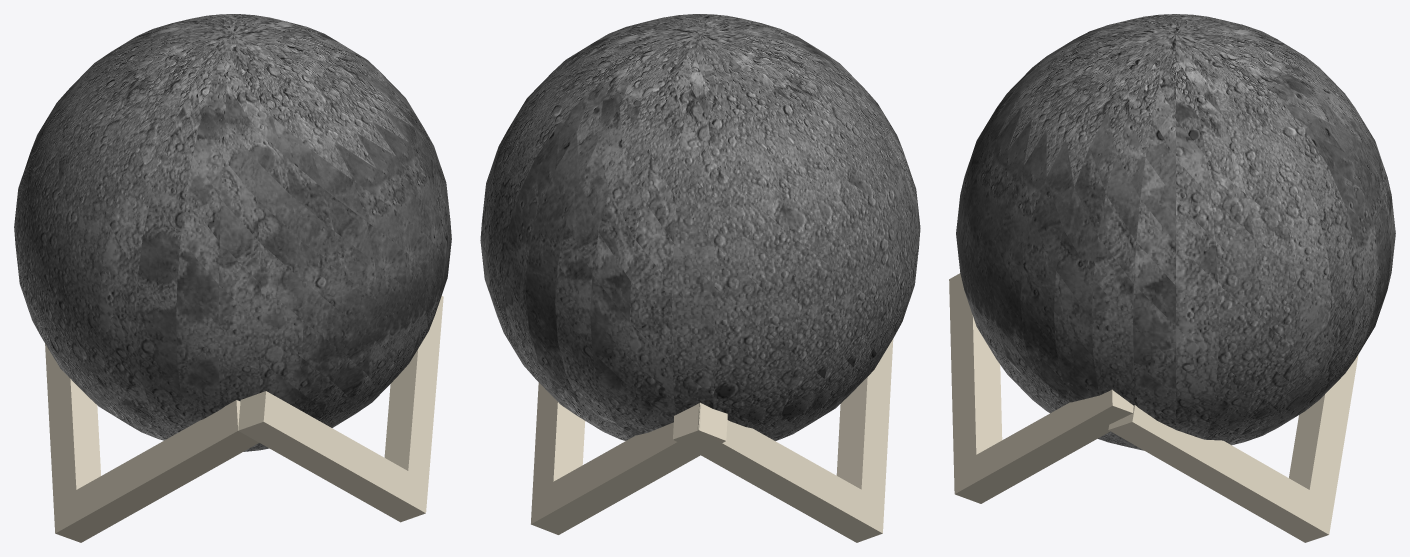
The model's file is lampara-de-luna-de-apoyar.glb.
The picture shows the model from 3 angles, left to right: view 1: azimuth 30°, elevation 25°; view 2: azimuth 150°, elevation 25°; view 3: azimuth 270°, elevation 25°; orthographic projection.
Visible parts, largest first — view 1: Root Node; view 2: Root Node; view 3: Root Node.
Part boxes in pixels (x1,y1,x2,y2): Root Node: (14,14,451,542); Root Node: (480,14,920,542); Root Node: (949,14,1395,542).
Size of the model in its own units: 0.1899 by 0.2243 by 0.1928.
Materials: 2 (2 with a texture image).
